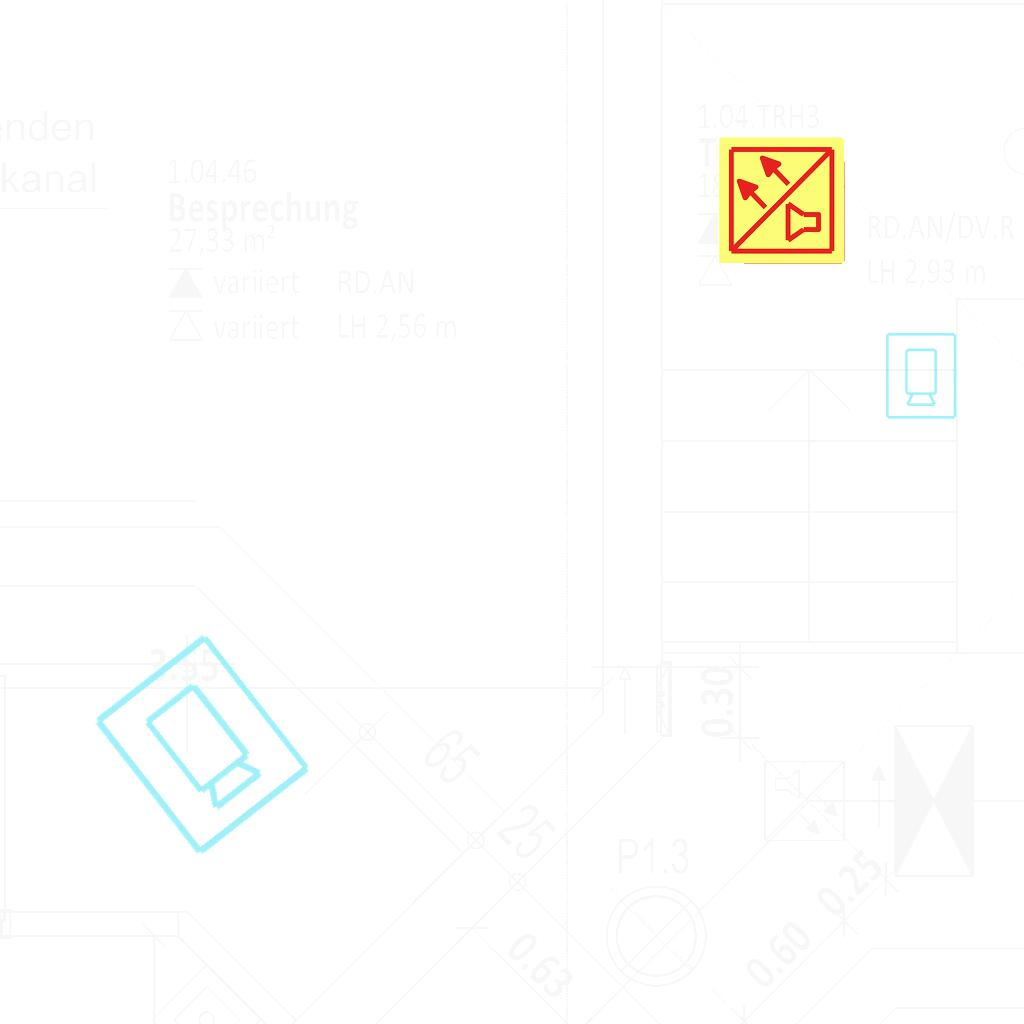KFO_Kamera_mit_Festobjektiv: (84, 625, 318, 865), (882, 330, 959, 421)
OKW_Multisensormelder_(Kombination_optischer_Rauch-Kahlenmonoxid_Waerme-Melder): (716, 134, 848, 266)
